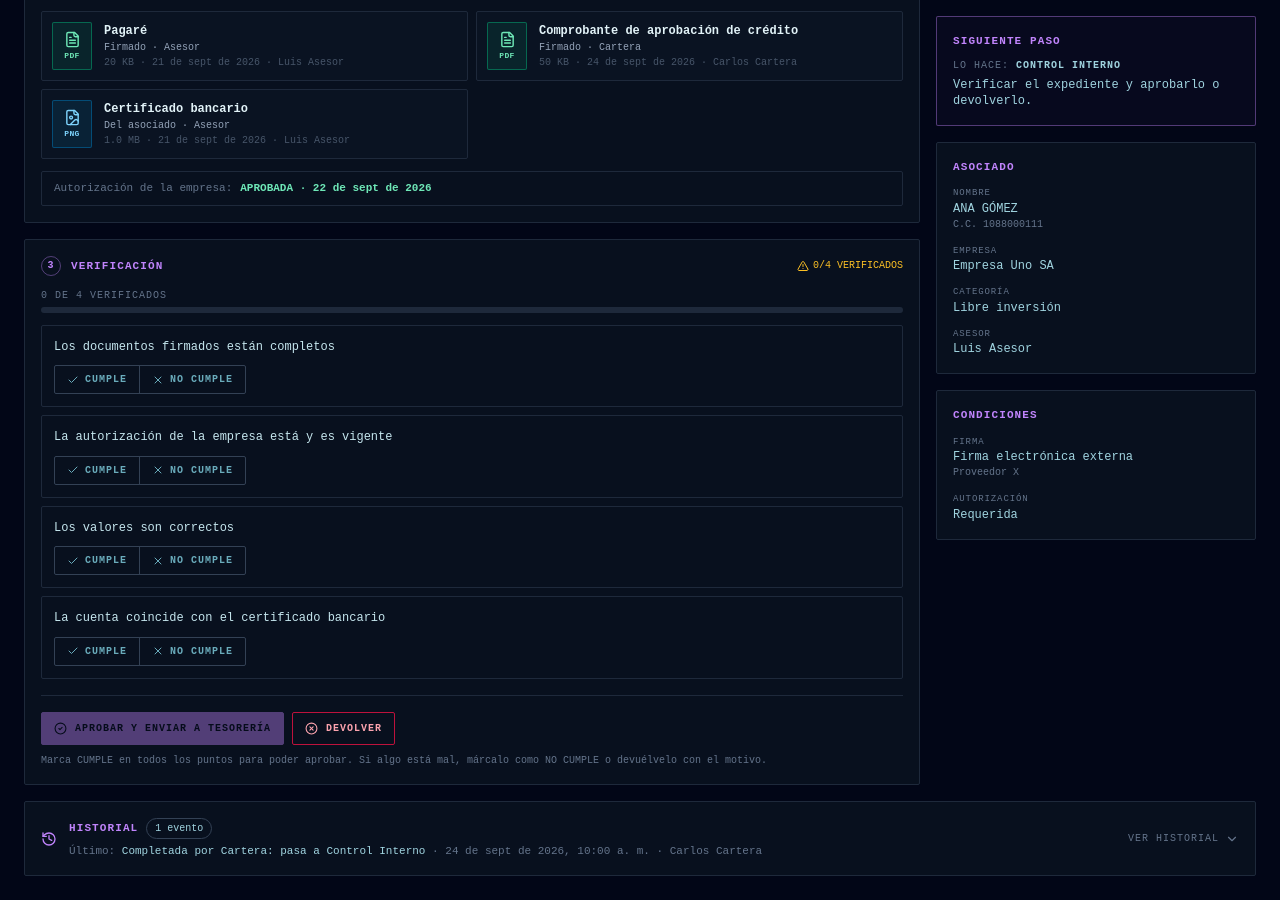
Test: Control Interno — devolver › cancelar cierra sin enviar nada
(page scrolled)
Click the button "DEVOLVER".
click(344, 728)  # box x1=292 y1=712 x2=395 y2=745
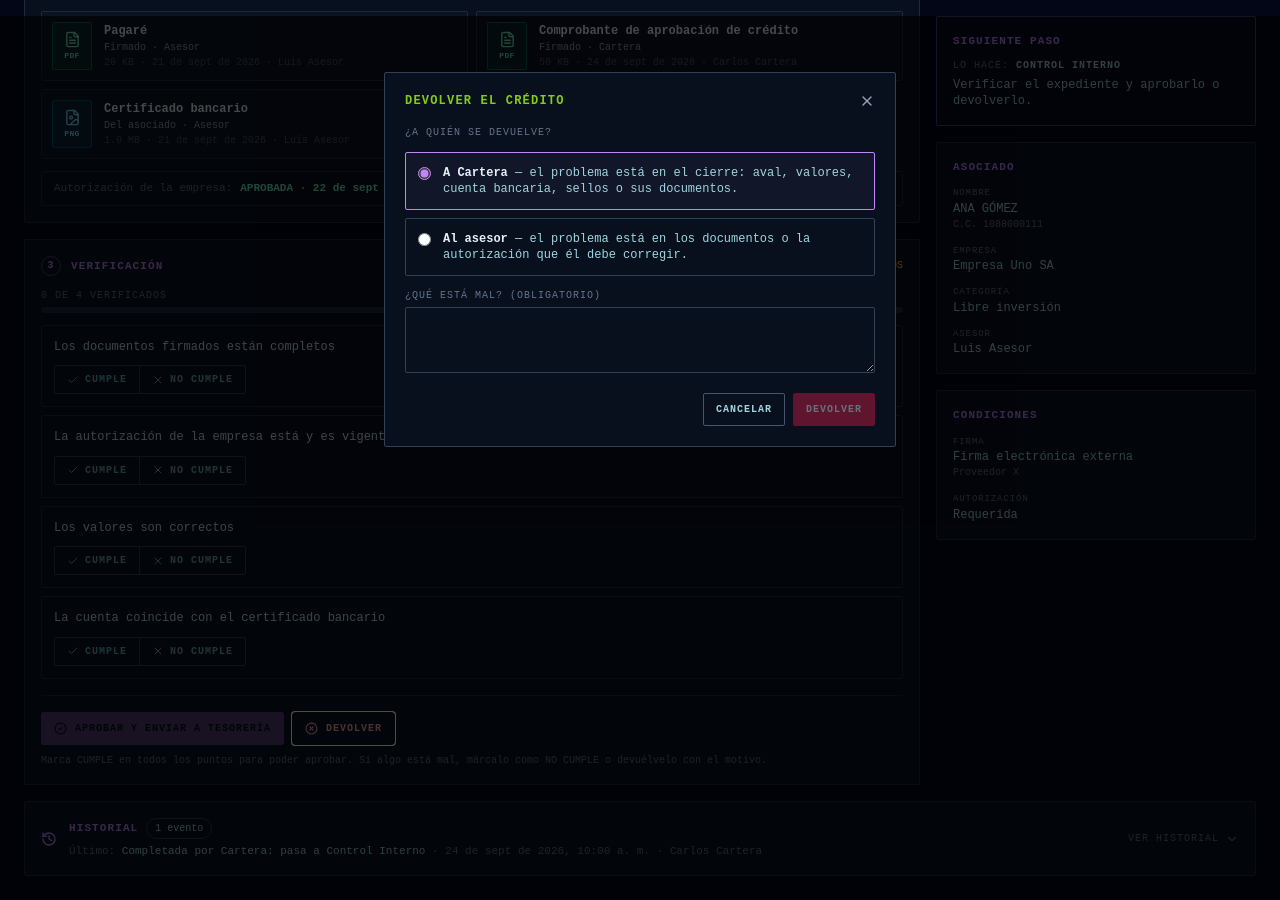
Click the button "CANCELAR".
click(744, 410)  # box x1=703 y1=393 x2=785 y2=426
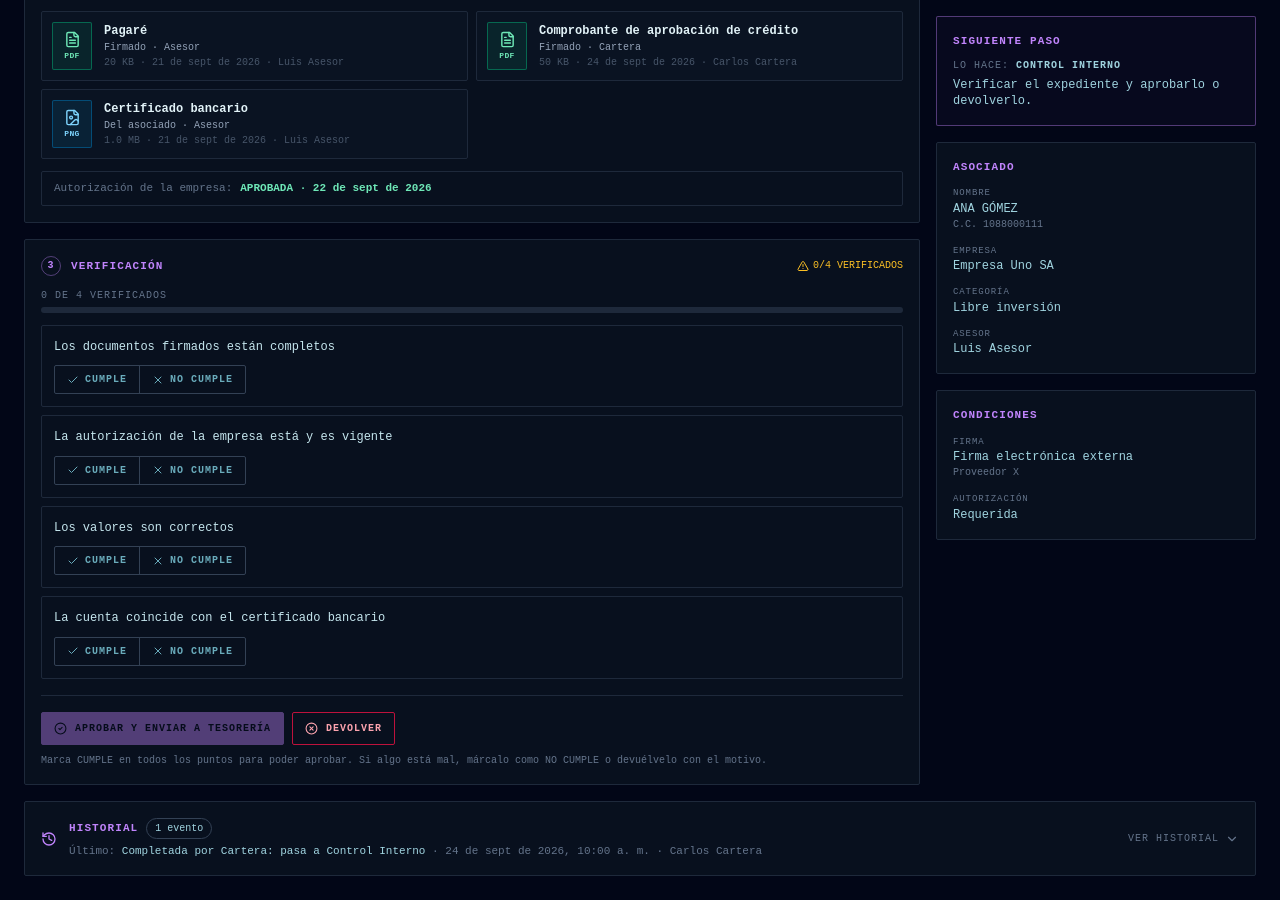
Check: the heading "DEVOLVER EL CRÉDITO" is gone
